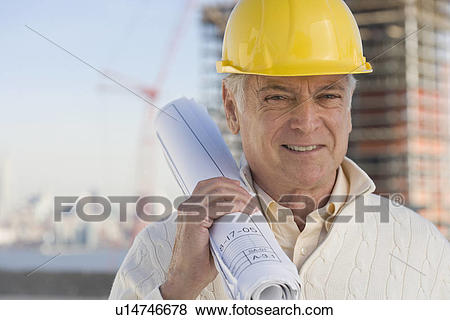Person_wearing_helmet: (211, 0, 376, 123)
